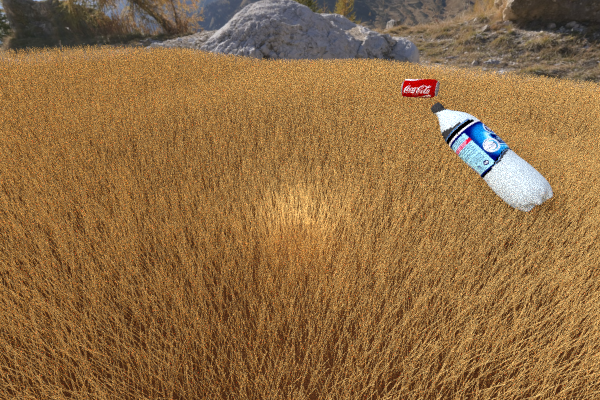bottle: (430, 102, 553, 212)
can: (465, 198, 590, 301), (401, 79, 439, 98)
